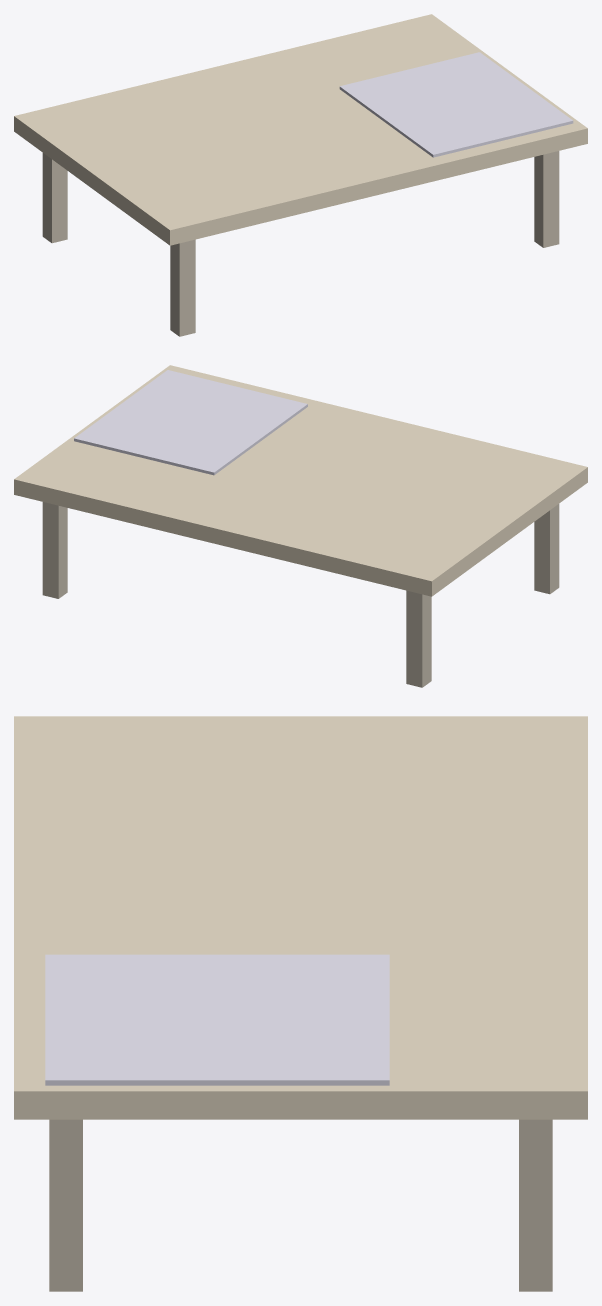
File: bench.glb
3 renders of one model, top to bottom at view 1: azimuth 30°, elevation 25°; view 2: azimuth 150°, elevation 25°; view 3: azimuth 270°, elevation 25°, orthographic. The views are drawn at different scales.
Visible parts, largest first — view 1: world; view 2: world; view 3: world.
Part boxes in pixels (left/top/right/bottom): world: left=14, top=14, right=587, bottom=336; world: left=14, top=365, right=587, bottom=687; world: left=14, top=716, right=587, bottom=1291.
Bounding box in the file's own units: 34 × 9.42 × 22.
